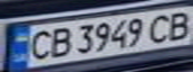3: (72, 21, 96, 55)
4: (109, 17, 133, 51)
9: (124, 15, 151, 47), (90, 19, 115, 53)
B: (163, 8, 193, 42), (45, 25, 72, 60)
C: (21, 27, 54, 62), (145, 11, 175, 44)
